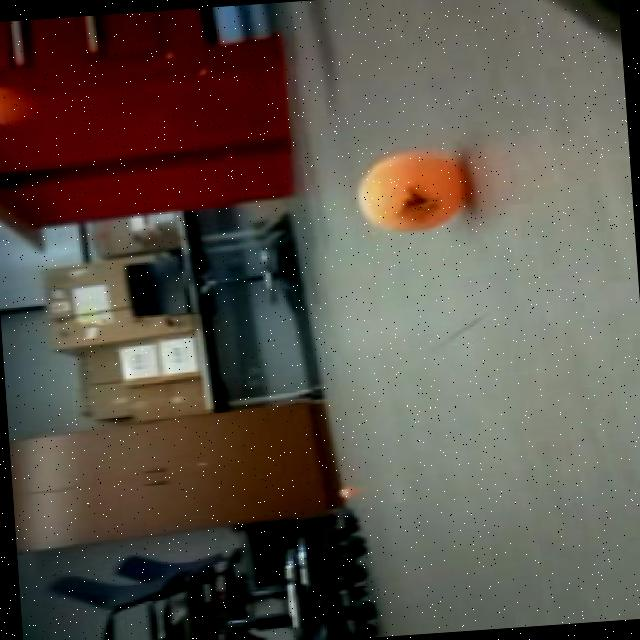ping-pong-ball: (346, 144, 470, 244), (330, 484, 356, 502)
